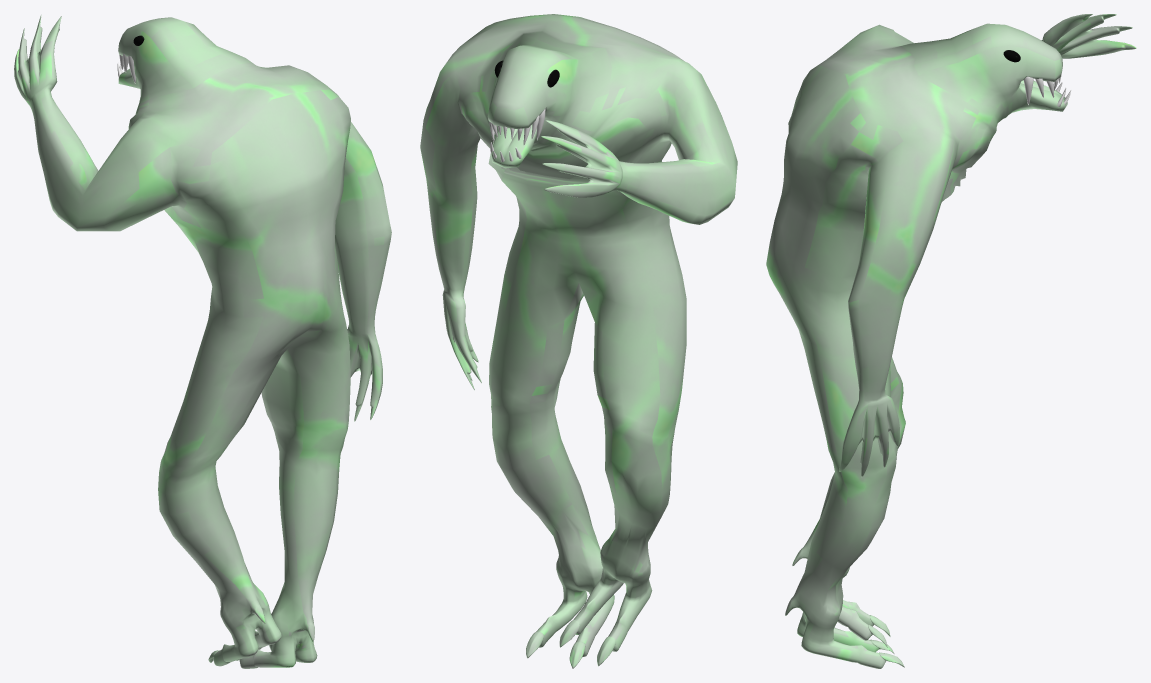
The model's file is Berserkercorrer.0028.obj.
3 renders of one model, left to right at view 1: azimuth 30°, elevation 25°; view 2: azimuth 150°, elevation 25°; view 3: azimuth 270°, elevation 25°, orthographic. The views are drawn at different scales.
Parts seen in each view (by area): view 1: polySurface27; view 2: polySurface27; view 3: polySurface27.
Boxes of the visible parts, x1,y1,x2,y2 form: polySurface27: [14, 15, 391, 668]; polySurface27: [420, 14, 737, 668]; polySurface27: [766, 14, 1136, 668].
Size of the model in its own units: 11.69 by 23.25 by 12.62.
1 material, 1 textured.
